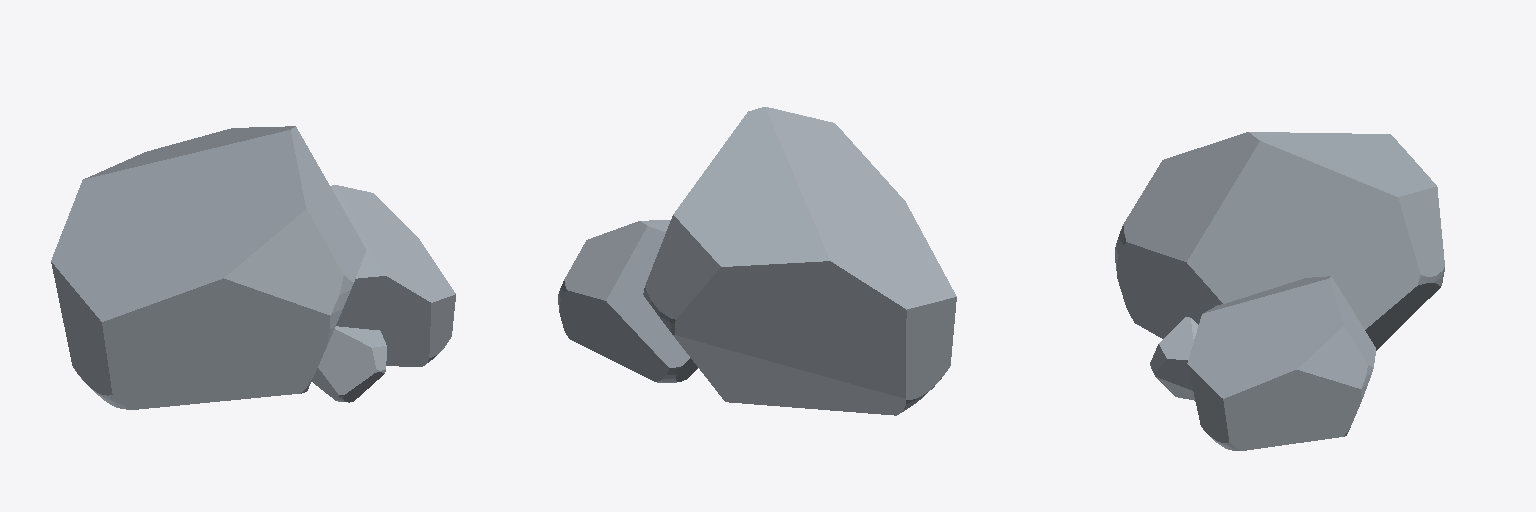
3 renders of one model, left to right at view 1: azimuth 30°, elevation 25°; view 2: azimuth 150°, elevation 25°; view 3: azimuth 270°, elevation 25°, orthographic.
Parts seen in each view (by area): view 1: roche_.002; view 2: roche_.002; view 3: roche_.002.
Boxes of the visible parts, x1,y1,x2,y2 form: roche_.002: [51, 126, 455, 409]; roche_.002: [558, 107, 956, 415]; roche_.002: [1115, 132, 1444, 450].
Size of the model in its own units: 0.1972 by 0.1463 by 0.1642.
1 materials, 1 textured.